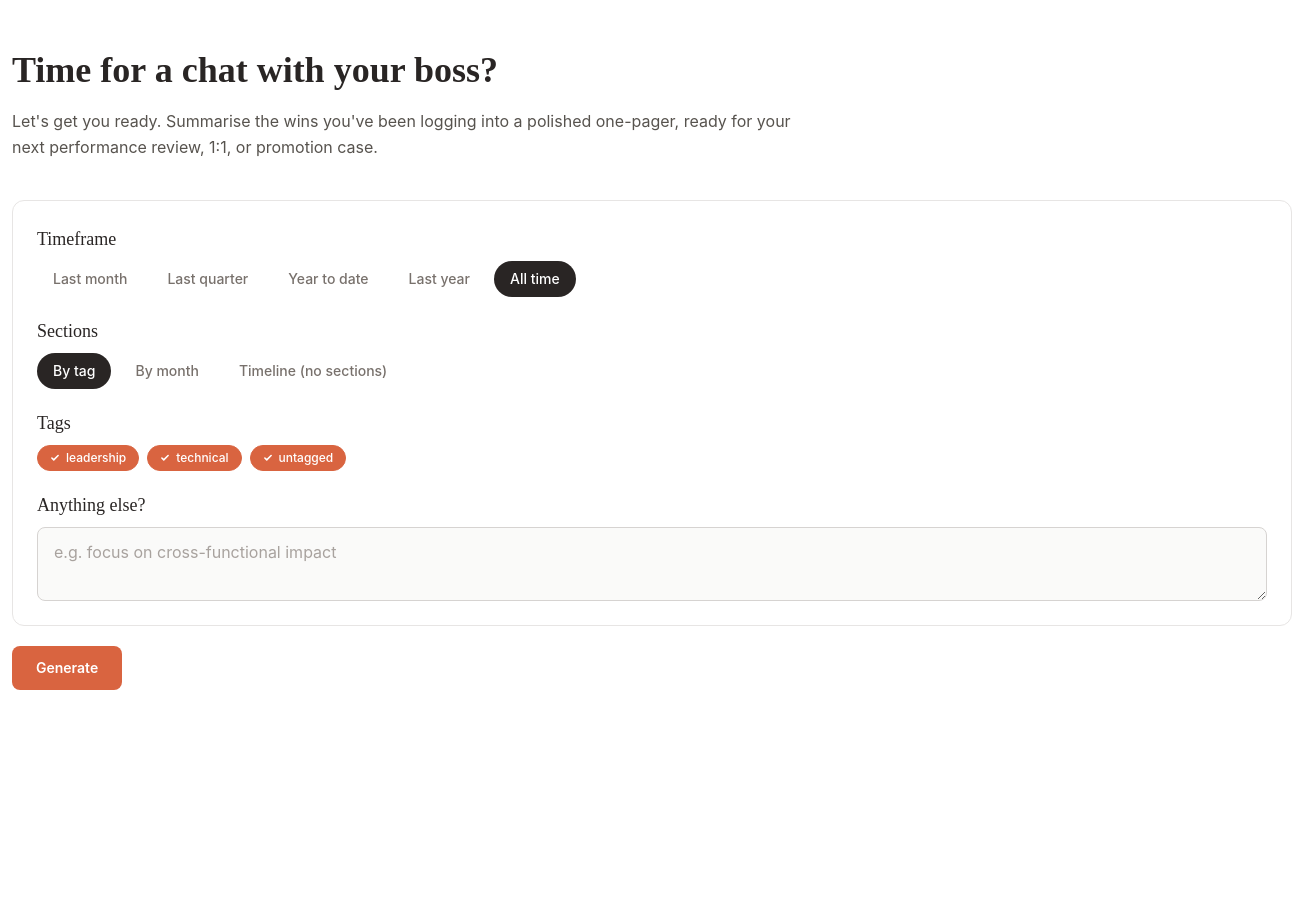
Scenario: BragDoc — controls › disables Generate and shows helper text when every tag chip is deselected
Click the button "leadership": (88, 458) x1=37 y1=445 x2=139 y2=471
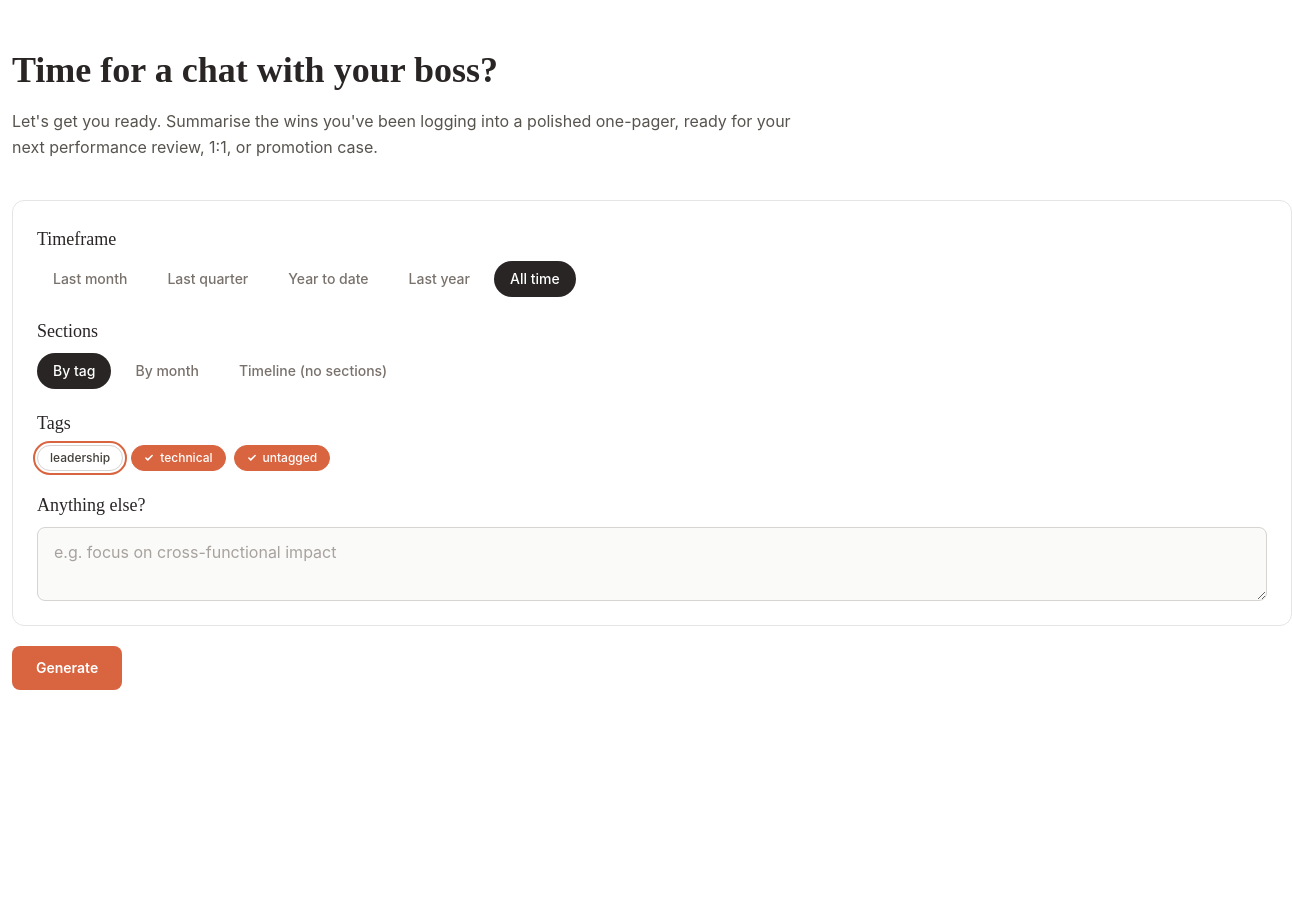
Click the button "technical": (178, 458) x1=131 y1=445 x2=226 y2=471
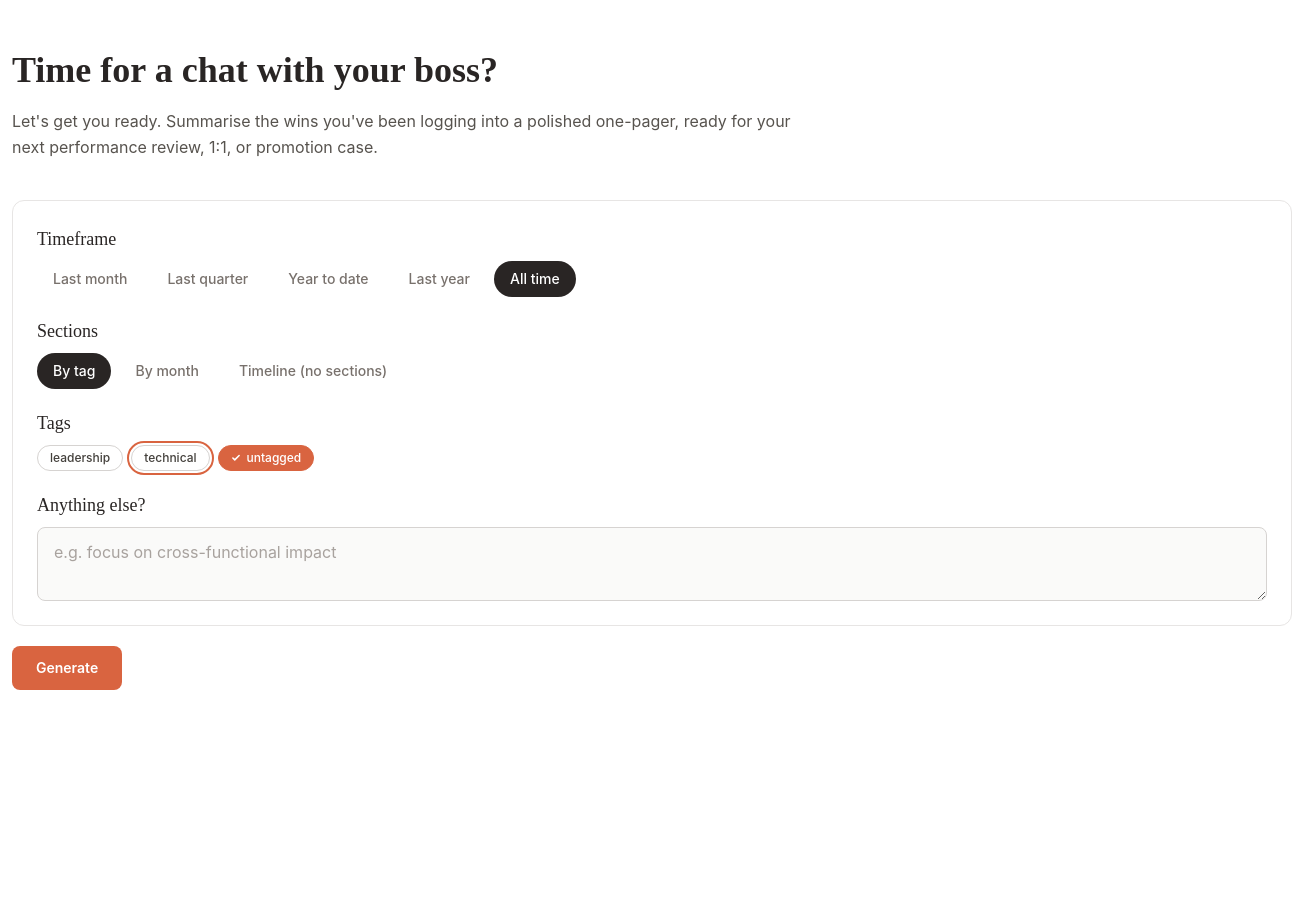
Click the button "untagged": (266, 458) x1=218 y1=445 x2=314 y2=471
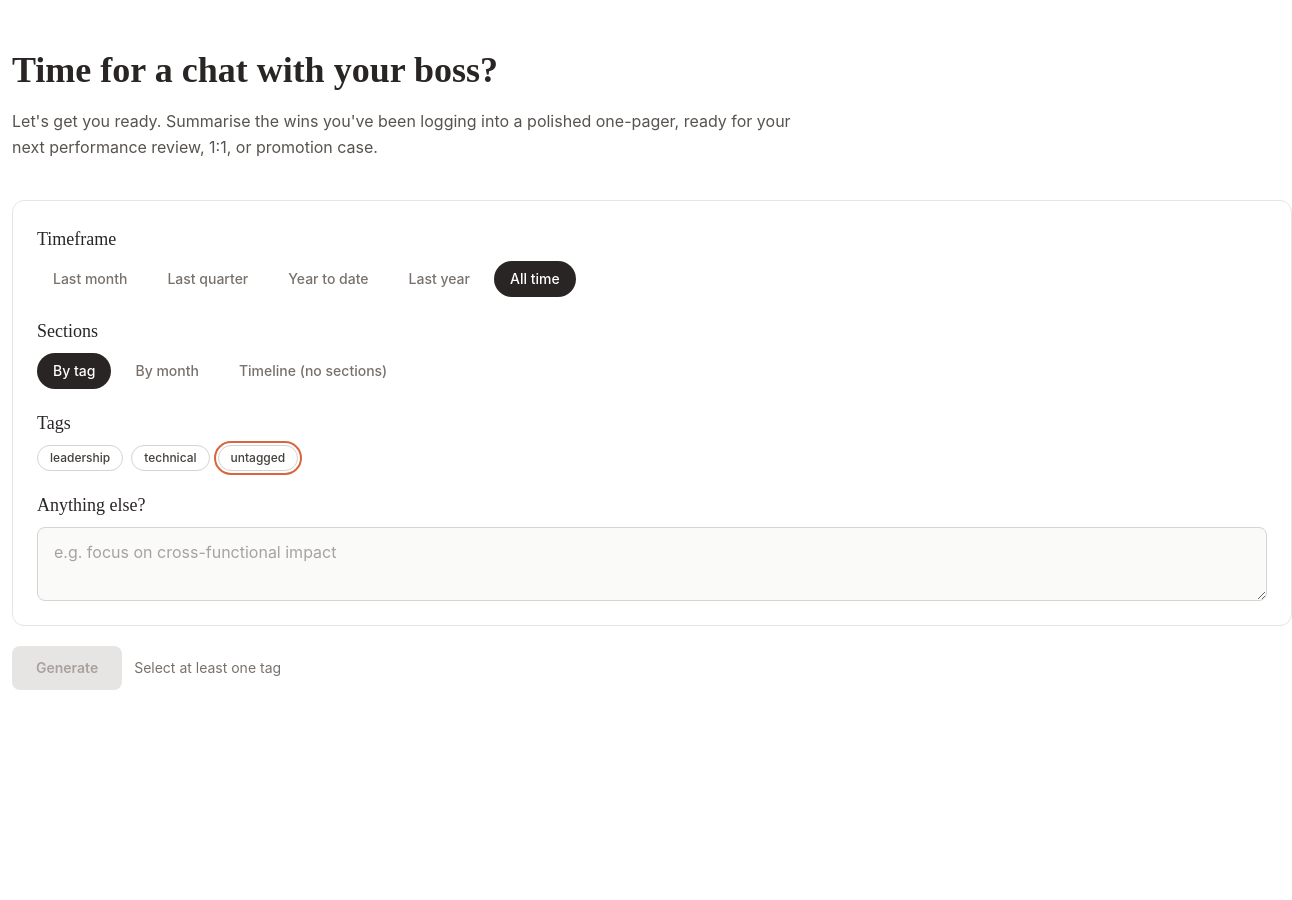
Expected: the button "Generate" is disabled, x1=12 y1=646 x2=122 y2=690
Expected: the text "Select at least one tag" is shown, x1=134 y1=658 x2=281 y2=678
